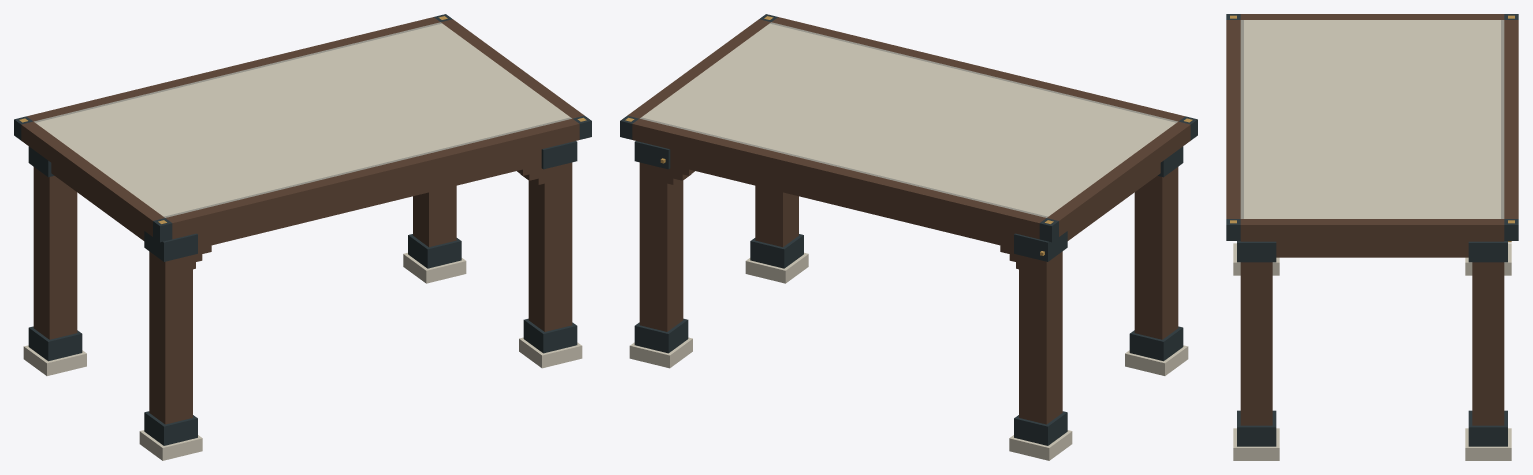
3 renders of one model, left to right at view 1: azimuth 30°, elevation 25°; view 2: azimuth 150°, elevation 25°; view 3: azimuth 270°, elevation 25°, orthographic.
Parts seen in each view (by area): view 1: 餐桌桌架; view 2: 餐桌桌架; view 3: 餐桌桌架.
Part boxes in pixels (x1,y1,x2,y2): 餐桌桌架: (14,14,591,460); 餐桌桌架: (620,14,1197,460); 餐桌桌架: (1226,14,1518,460).
Bounding box in the file's own units: 1.4 × 0.74 × 0.82.
Materials: 6 (6 with a texture image).
